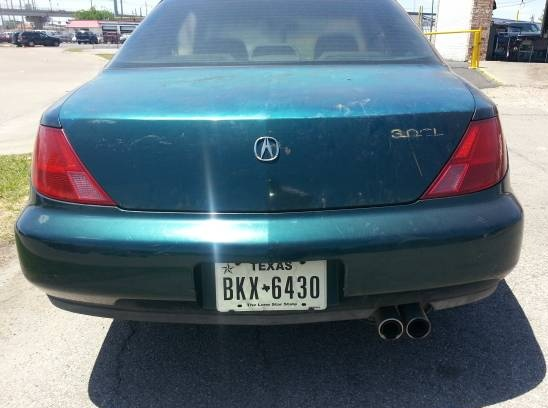acura: (12, 4, 529, 353)
